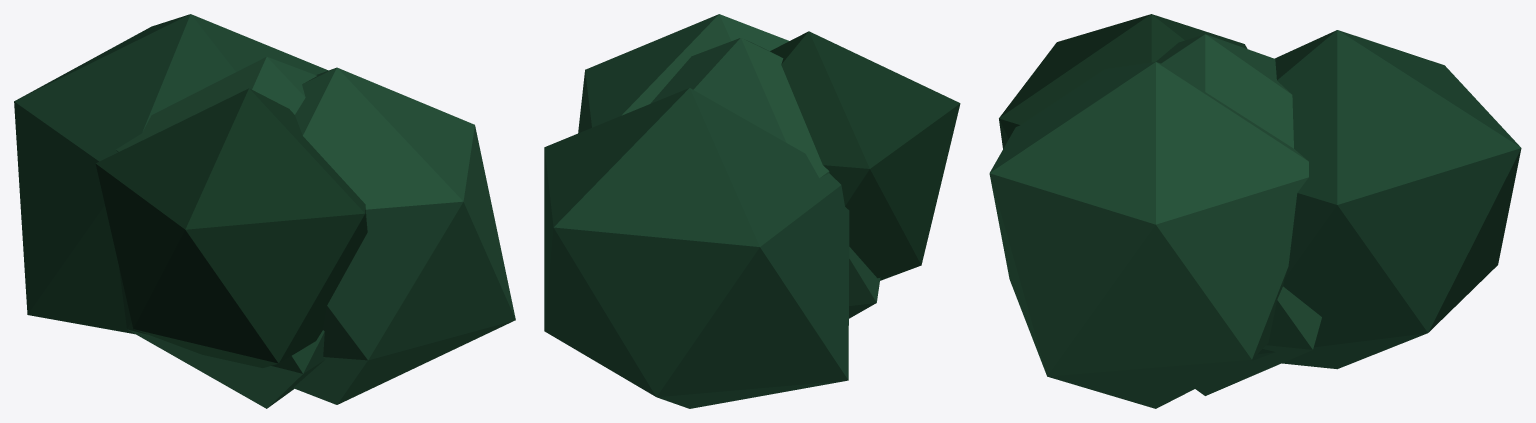
File: bush.glb
3 views of the same model, side by side, from view 1: azimuth 30°, elevation 25°; view 2: azimuth 150°, elevation 25°; view 3: azimuth 270°, elevation 25° (orthographic). The views are drawn at different scales.
Visible parts, largest first — view 1: Bush; view 2: Bush; view 3: Bush.
Boxes of the visible parts, bbox=[...] form: Bush: bbox=[14, 14, 515, 408]; Bush: bbox=[544, 14, 960, 408]; Bush: bbox=[989, 14, 1521, 408].
Size of the model in its own units: 0.9535 by 0.8938 by 1.19.
